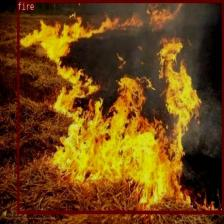fire: (16, 0, 224, 213)
